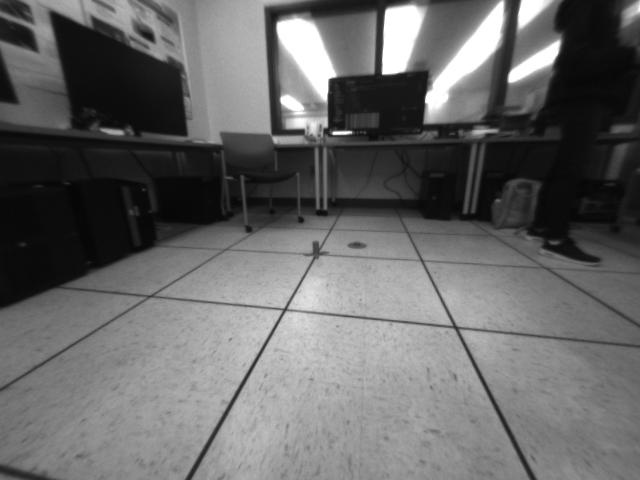X: (301, 240, 330, 260)
